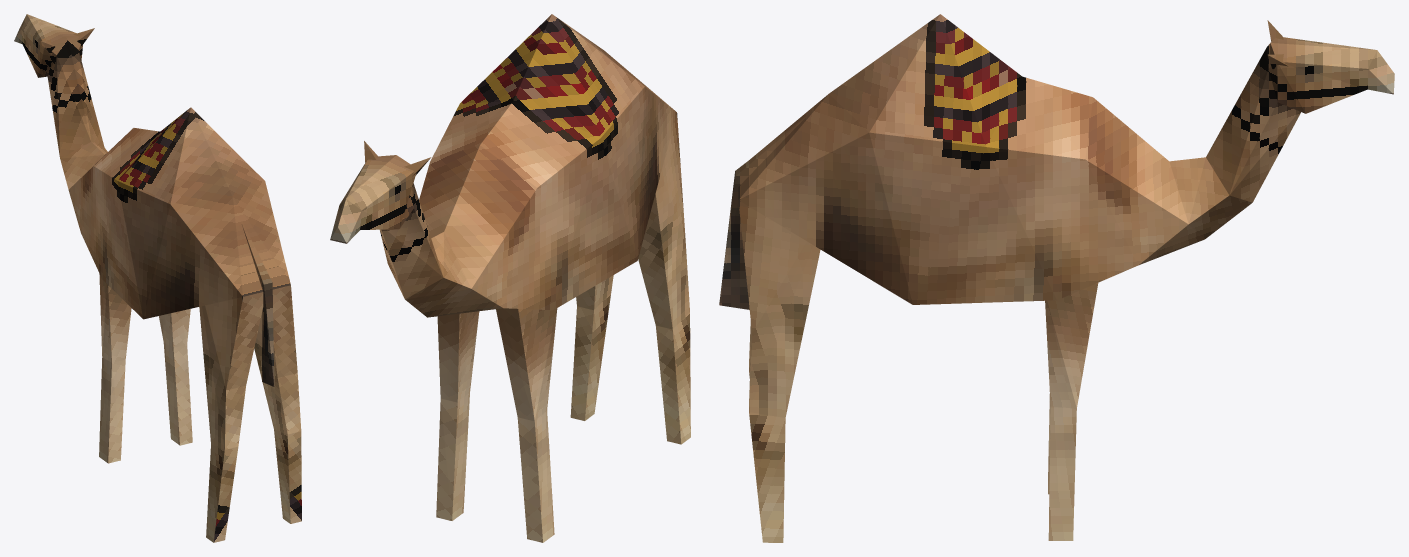
The model's file is Camel_Camel_Saddled.glb.
3 renders of one model, left to right at view 1: azimuth 30°, elevation 25°; view 2: azimuth 150°, elevation 25°; view 3: azimuth 270°, elevation 25°, orthographic. The views are drawn at different scales.
Parts seen in each view (by area): view 1: Body, Leg3, Head, Leg4, Leg1, Leg2; view 2: Body, Leg3, Head, Leg1, Leg2, Leg4; view 3: Body, Leg4, Head, Leg2.
Part boxes in pixels (left/top/right/bottom): Body: left=60, top=107, right=290, bottom=386; Leg3: left=199, top=292, right=263, bottom=542; Head: left=14, top=14, right=104, bottom=158; Leg4: left=254, top=285, right=301, bottom=523; Leg1: left=99, top=273, right=131, bottom=463; Leg2: left=159, top=309, right=192, bottom=445; Body: left=405, top=14, right=676, bottom=317; Leg3: left=638, top=113, right=690, bottom=444; Head: left=330, top=141, right=443, bottom=298; Leg1: left=496, top=308, right=557, bottom=542; Leg2: left=436, top=311, right=479, bottom=520; Leg4: left=570, top=275, right=613, bottom=420; Body: left=719, top=14, right=1252, bottom=309; Leg4: left=738, top=200, right=820, bottom=542; Head: left=1206, top=20, right=1394, bottom=202; Leg2: left=1045, top=283, right=1098, bottom=540.
Bounding box in the file's own units: 0.6462 × 2 × 2.45.
1 material, 1 textured.
